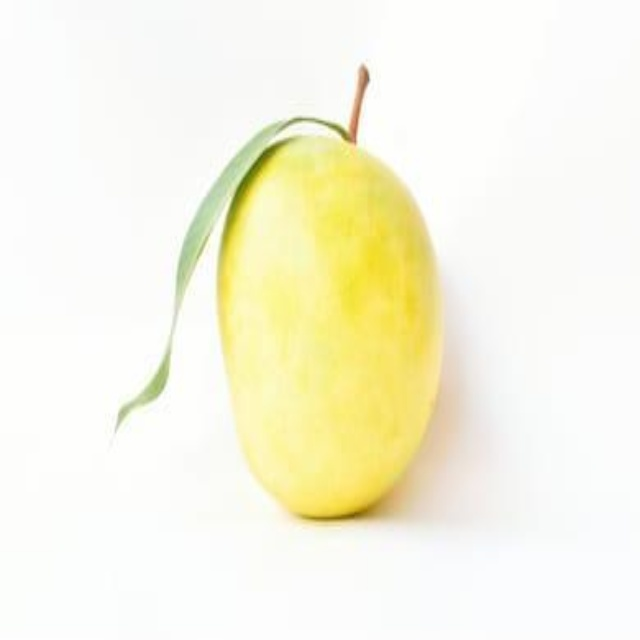mango: (222, 130, 447, 522)
